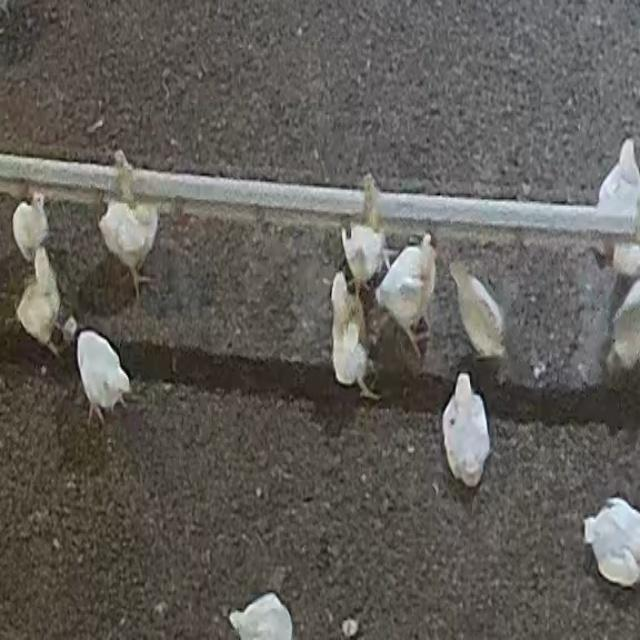chicken: (324, 268, 383, 412), (12, 246, 72, 366), (384, 242, 446, 356), (438, 368, 495, 492), (451, 259, 511, 366), (75, 325, 135, 430)
